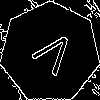V: (25, 27, 79, 85)
